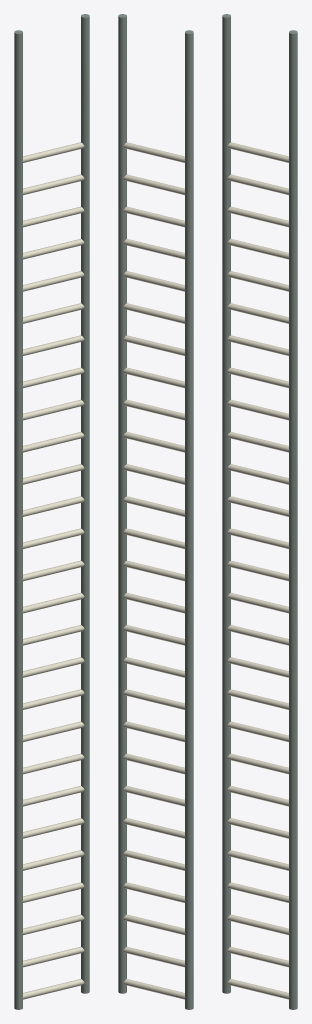
Rendered from Access_Ladder.glb.
The picture shows the model from 3 angles, left to right: view 1: azimuth 30°, elevation 25°; view 2: azimuth 150°, elevation 25°; view 3: azimuth 330°, elevation 25°; orthographic projection.
Visible parts, largest first — view 1: Access_Ladder; view 2: Access_Ladder; view 3: Access_Ladder.
Boxes of the visible parts, <box> form: Access_Ladder: <box>14,14,89,1009</box>; Access_Ladder: <box>118,14,193,1009</box>; Access_Ladder: <box>222,14,297,1009</box>.
Size of the model in its own units: 0.725 by 9.1 by 0.075.
Materials: 2 (1 with a texture image).
